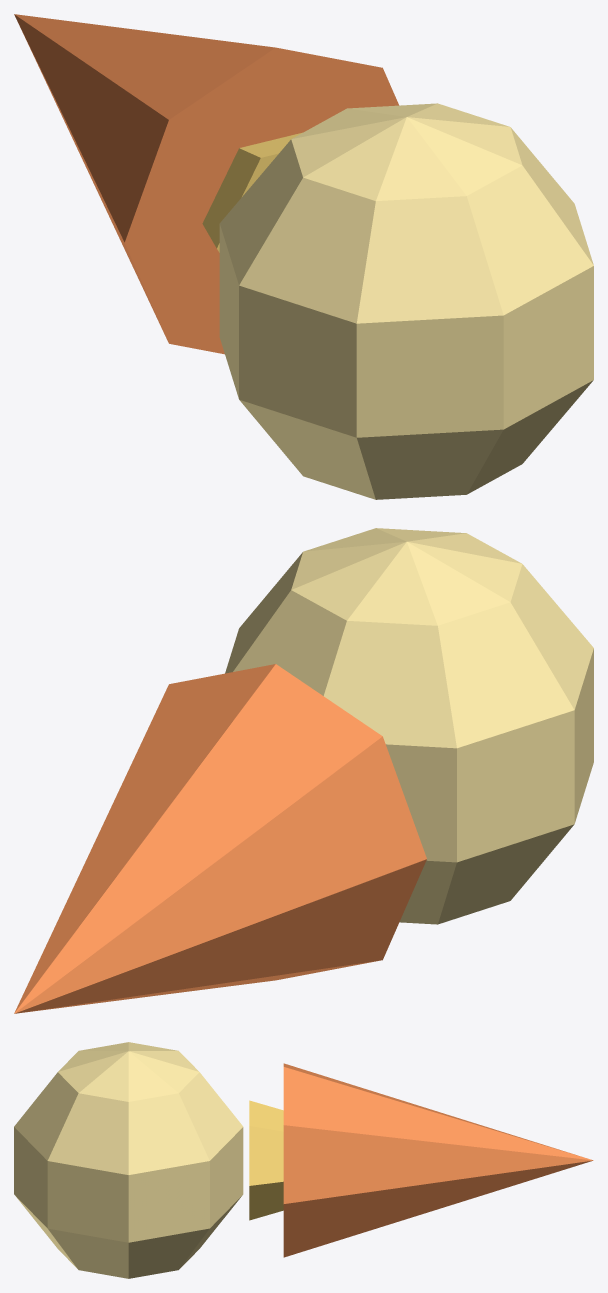
Rendered from fire_projectile_flat.glb.
The picture shows the model from 3 angles, top to bottom: view 1: azimuth 30°, elevation 25°; view 2: azimuth 150°, elevation 25°; view 3: azimuth 270°, elevation 25°; orthographic projection. The views are drawn at different scales.
Visible parts, largest first — view 1: FlameGlow, FlameCore, FlameInner; view 2: FlameCore, FlameGlow; view 3: FlameGlow, FlameCore, FlameInner.
Boxes of the visible parts, <box> form: FlameGlow: <box>219,103,593,499</box>; FlameCore: <box>14,14,399,354</box>; FlameInner: <box>202,132,302,252</box>; FlameCore: <box>14,664,426,1013</box>; FlameGlow: <box>225,528,593,924</box>; FlameGlow: <box>14,1042,243,1278</box>; FlameCore: <box>283,1063,593,1257</box>; FlameInner: <box>249,1100,283,1220</box>.
Bounding box in the file's own units: 0.0333 × 0.035 × 0.0841.
